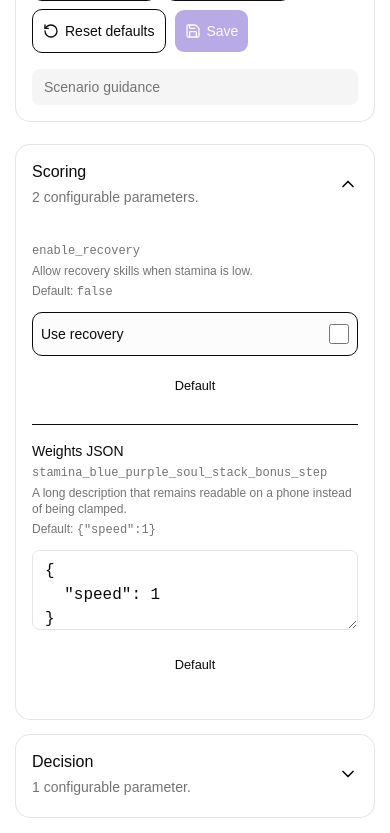
Test: BotConfiguration responsive form › renders mobile accordion controls while every desktop section remains flat and available
(page scrolled)
Expected: the checkbox labelled "Use recovery" is shown, [329,324,349,344]
Click the button "Decision 1 configurable parameter." at (63, 762), box [24,743,366,805]
(page scrolled)
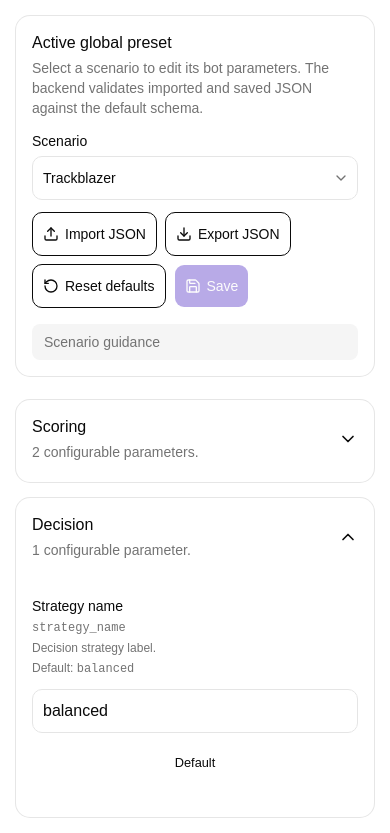
Expected: the dropdown named "Scenario" is shown, [32,156,358,200]
Result: the button "Scoring 2 configurable parameters." is collapsed at [24,408,366,470]
Result: the button "Decision 1 configurable parameter." is expanded at [24,506,366,568]
